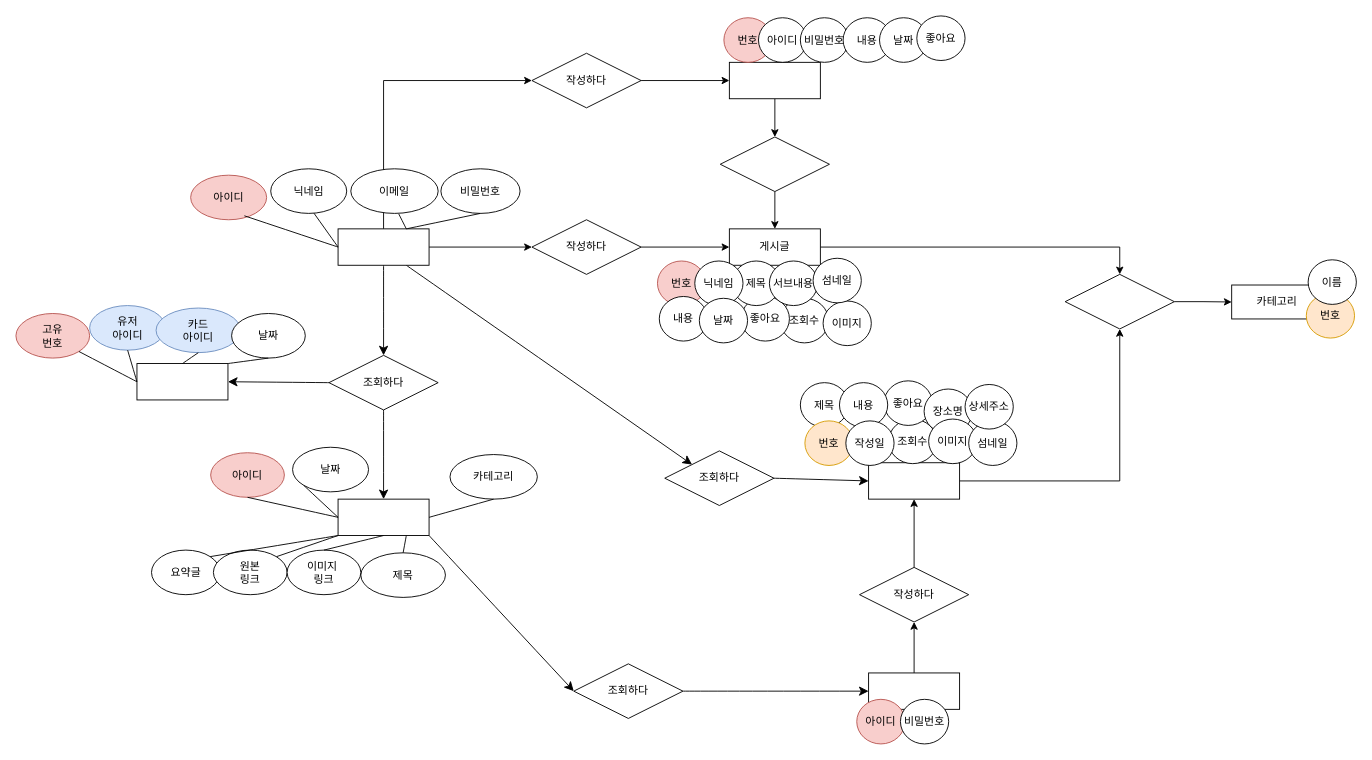
This 1372x760 diagram has some shape labels left out. The box of each missing label's shape, as (x1, y1, x2, y2) in pixels:
공지글: (868, 462, 960, 499)
관리자: (868, 672, 960, 709)
댓글: (728, 61, 820, 99)
속하다: (1064, 273, 1174, 329)
조회 기록: (136, 363, 228, 400)
카드: (337, 498, 429, 536)
포함하다: (719, 136, 829, 192)
회원: (337, 228, 429, 265)
